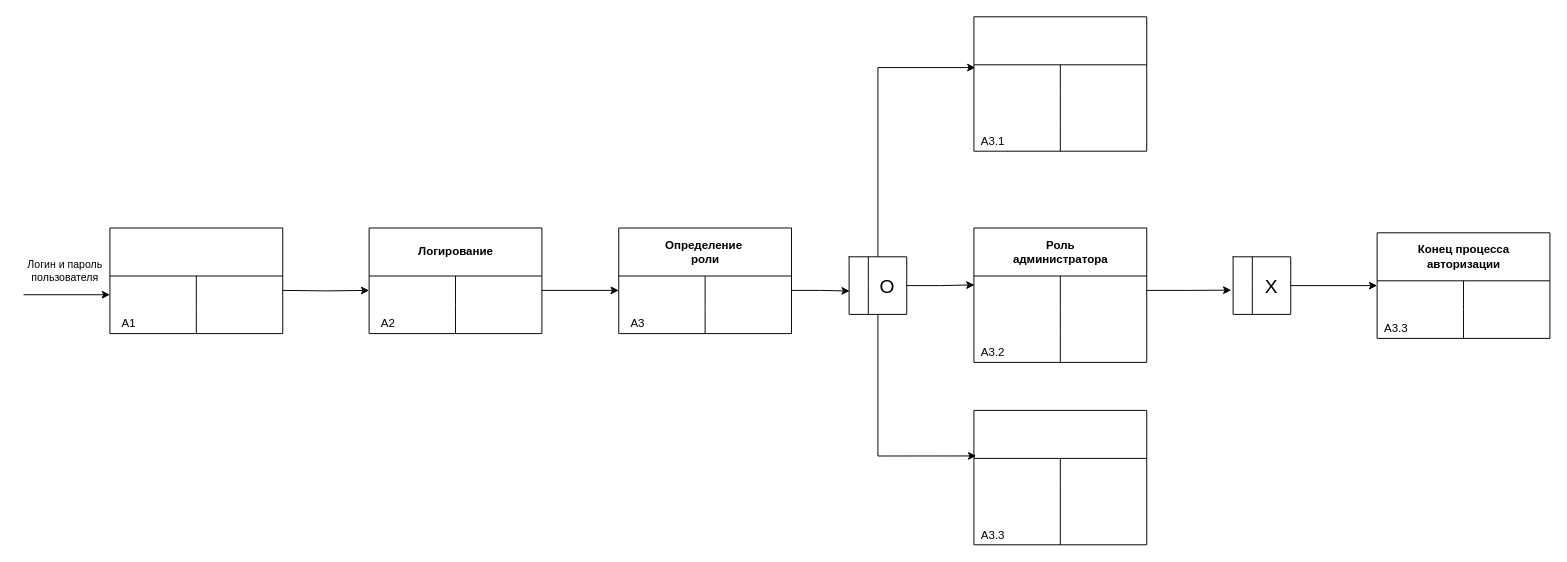
Image size: 1567x562. Some labels were removed from this diagram. The shapes that lost their labels are listed below. From the top down, each one's box as (x1, y1, x2, y2) in pixels, then its label:
(973, 16, 1147, 151): Роль оператора
(109, 227, 283, 334): Проверка данных пользователя
(973, 409, 1147, 545): Роль управляющего
